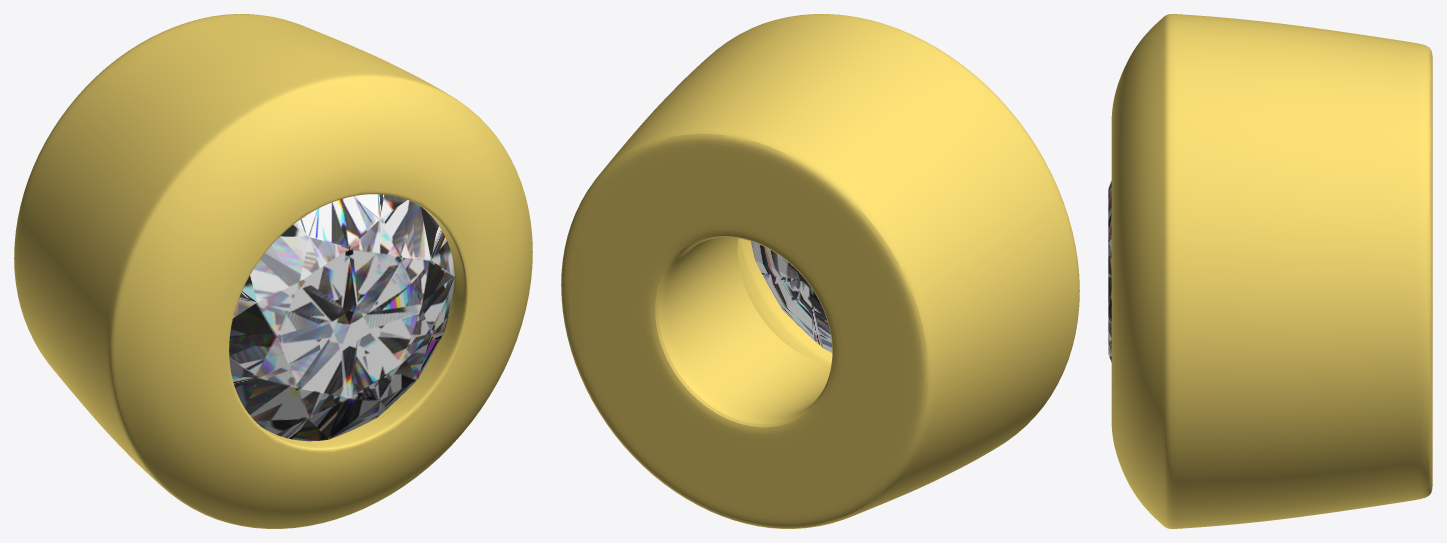
Rendered from demo2.gltf.
The picture shows the model from 3 angles, left to right: view 1: azimuth 30°, elevation 25°; view 2: azimuth 150°, elevation 25°; view 3: azimuth 270°, elevation 25°; orthographic projection. The views are drawn at different scales.
Visible parts, largest first — view 1: Ring, Gem_0; view 2: Ring, Gem_0; view 3: Ring, Gem_0.
Part boxes in pixels (box(x1,y1,x2,y2)): Ring: box(14, 14, 532, 528); Gem_0: box(229, 194, 454, 441); Ring: box(561, 14, 1079, 528); Gem_0: box(751, 241, 832, 352); Ring: box(1111, 14, 1432, 528); Gem_0: box(1108, 181, 1111, 362).
Size of the model in its own units: 2.51 by 2.51 by 1.58.
Materials: 3 (3 with a texture image).
